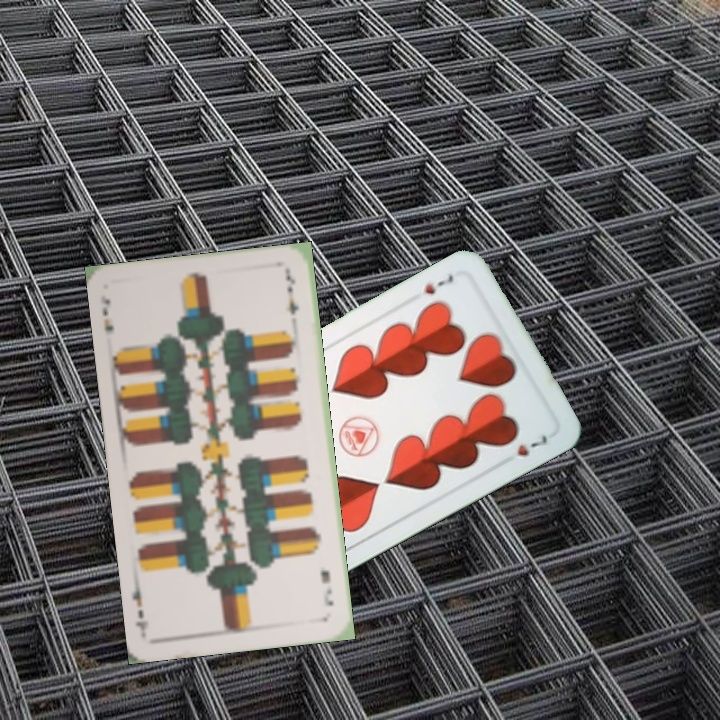E7: (316, 565, 336, 608), (97, 291, 116, 334)
H7: (420, 270, 456, 297)
